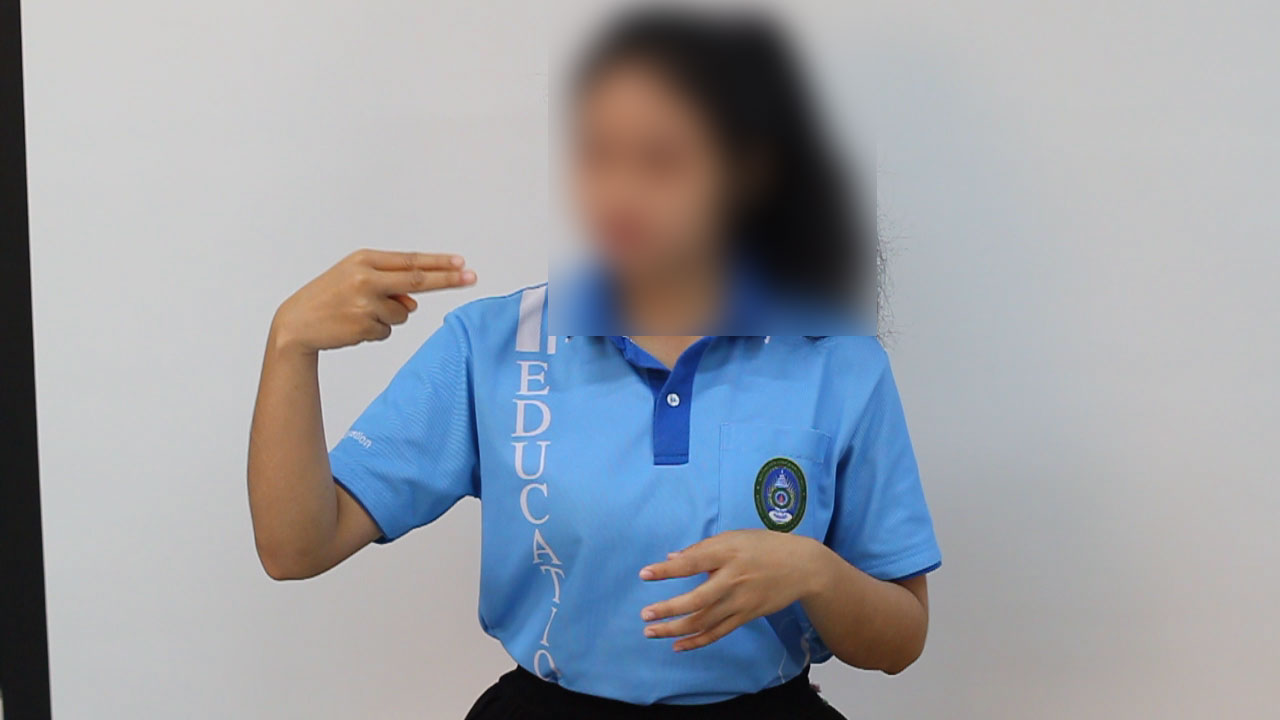hor: (248, 237, 491, 355)
